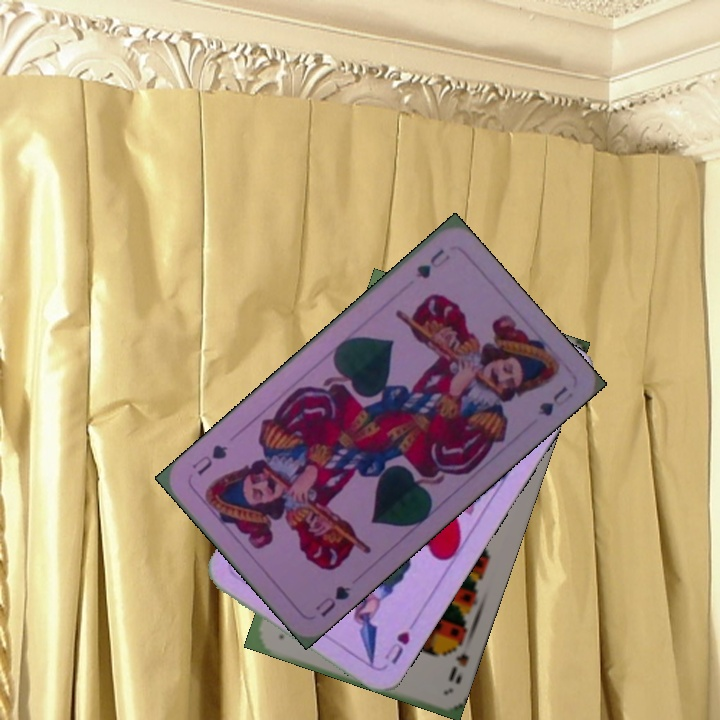GU: (311, 581, 354, 620), (411, 245, 453, 282)
HU: (380, 617, 419, 667)
S9: (444, 633, 472, 684)
